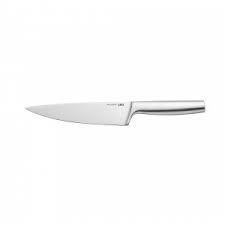Knife: (24, 99, 205, 126)
